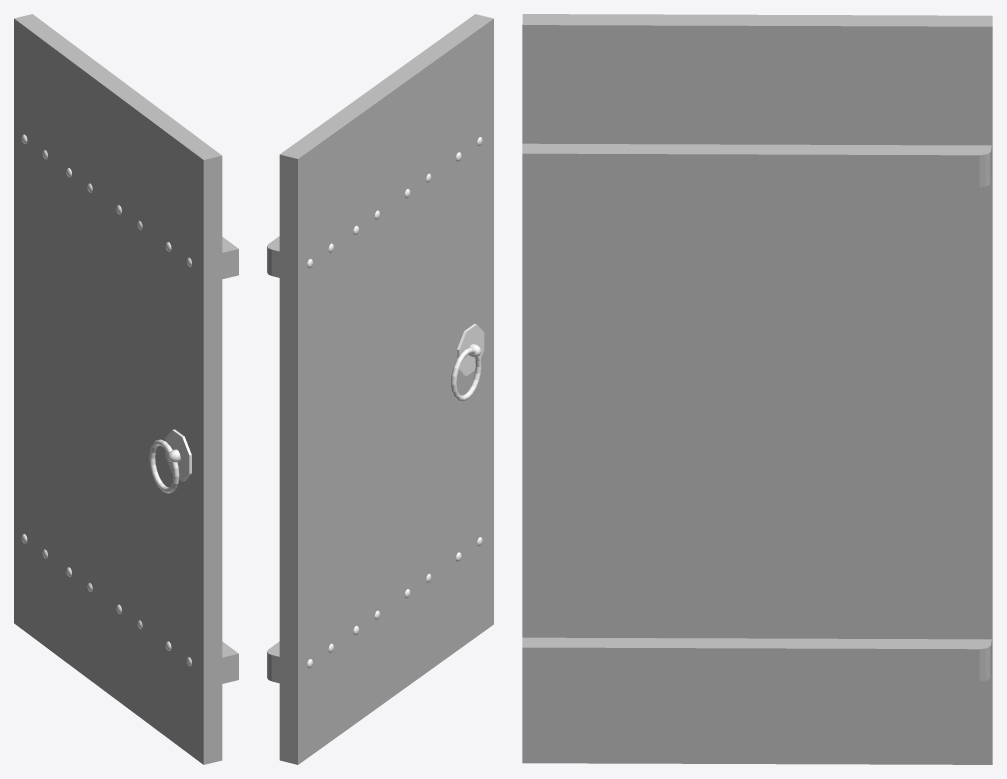
File: SM_D_Gate_4.fbx
3 views of the same model, side by side, from view 1: azimuth 30°, elevation 25°; view 2: azimuth 150°, elevation 25°; view 3: azimuth 270°, elevation 25° (orthographic). The views are drawn at different scales.
Parts seen in each view (by area): view 1: SM_D_Gate_4_LOD0; view 2: SM_D_Gate_4_LOD0; view 3: SM_D_Gate_4_LOD0.
Part boxes in pixels (x1,y1,x2,y2): SM_D_Gate_4_LOD0: [14, 14, 238, 764]; SM_D_Gate_4_LOD0: [267, 14, 493, 764]; SM_D_Gate_4_LOD0: [522, 14, 992, 764].
Size of the model in its own units: 16.73 by 115 by 199.
